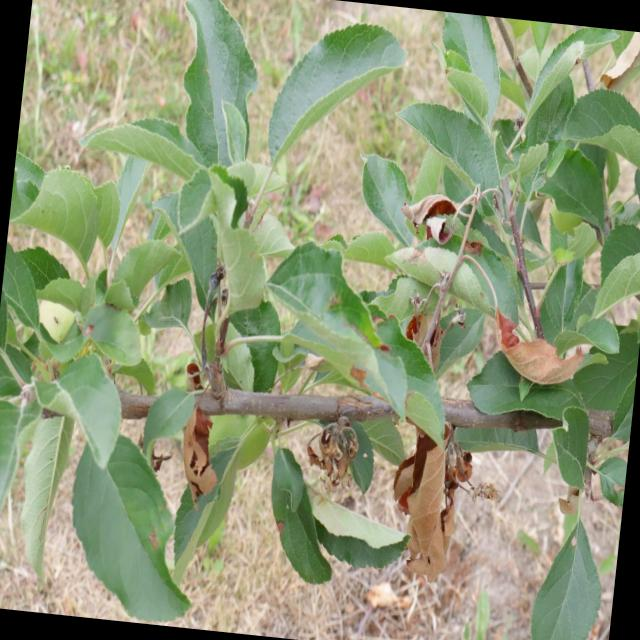-FireBlight-: (436, 252, 593, 394), (381, 430, 472, 580), (176, 404, 224, 510), (403, 277, 462, 359), (302, 426, 376, 484), (407, 192, 482, 248)
